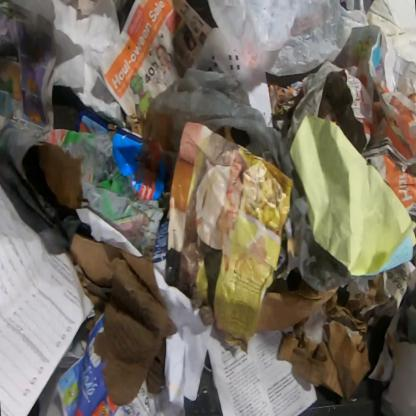cardboard: (64, 232, 178, 406), (254, 274, 390, 402), (36, 142, 85, 211)
soft_plastic: (142, 67, 378, 293), (206, 0, 370, 78)
